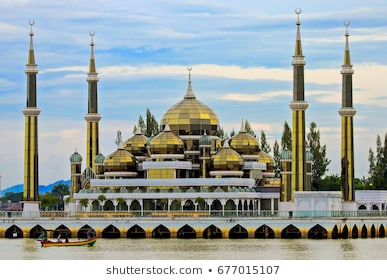Mosque: (13, 14, 360, 213)
